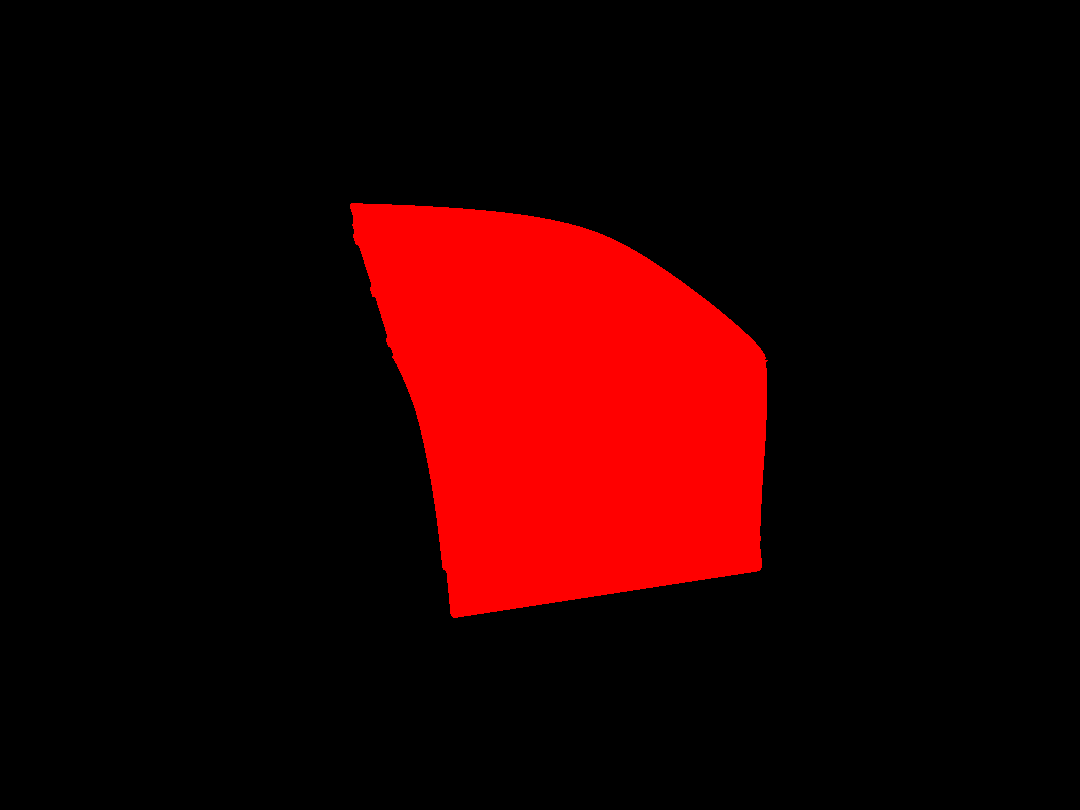car_door: (347, 200, 769, 619)
